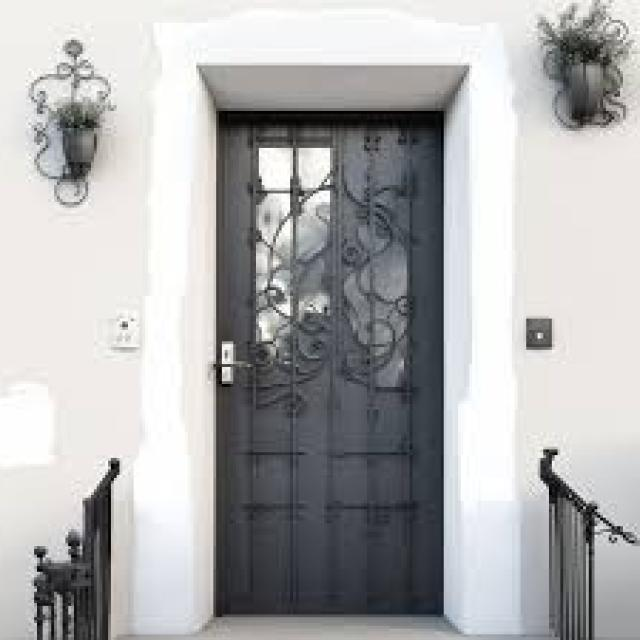door: (213, 108, 444, 617)
